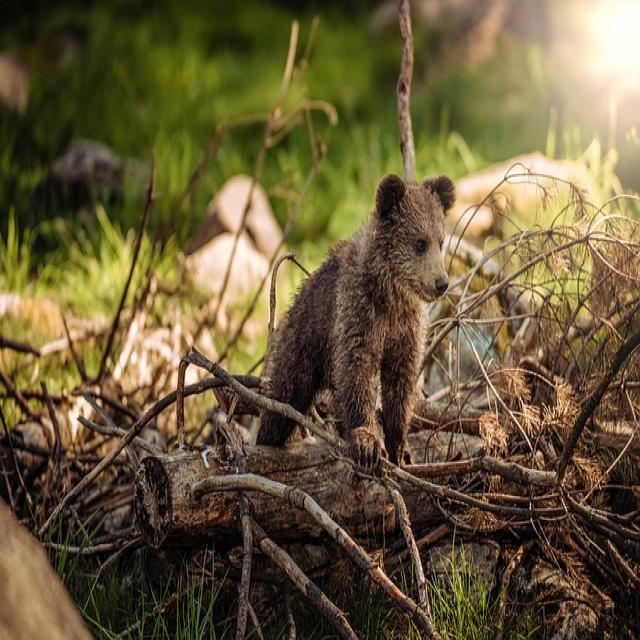Carnivorous: (255, 175, 459, 472)
